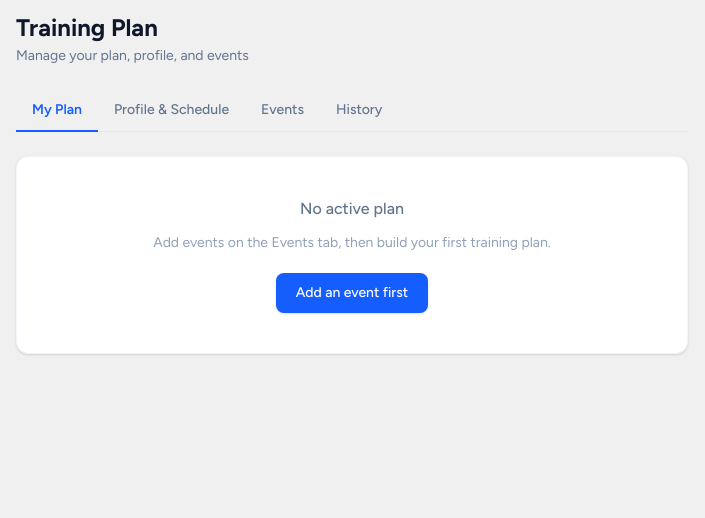
Test: PlanPage — events sync › shows "No new events found" when nothing is added
Click the button "Events": (283, 111) [245,90,320,132]
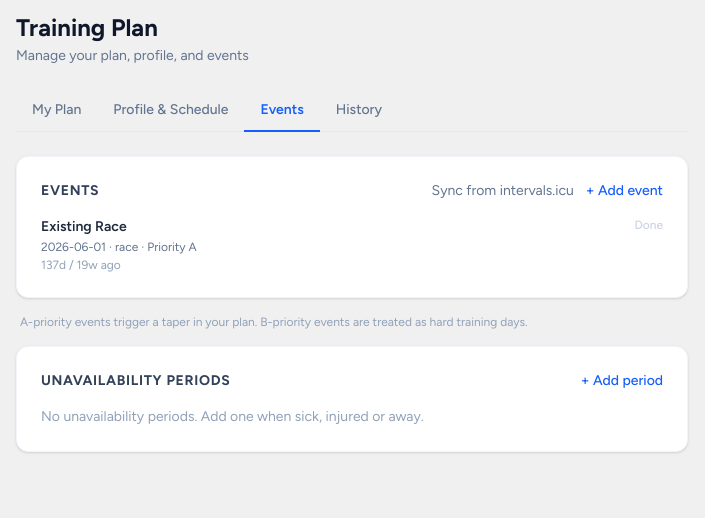
Click the button "Sync from intervals.icu": (503, 191) [432,181,574,201]
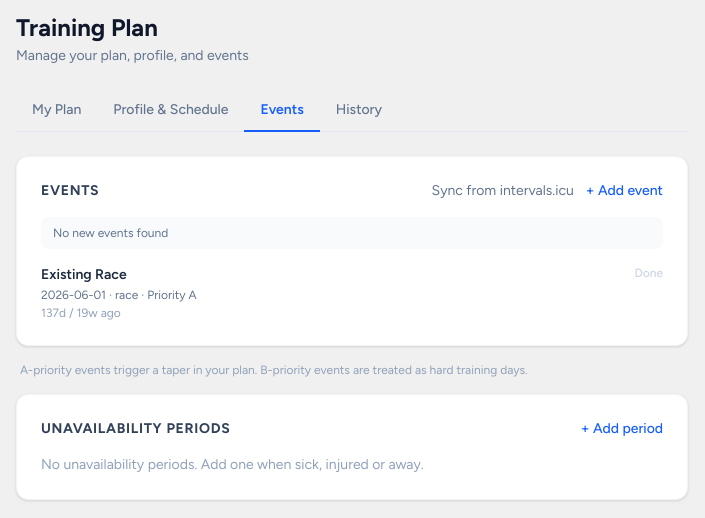
Expected: the text "No new events found" is shown, [41,217,663,249]
